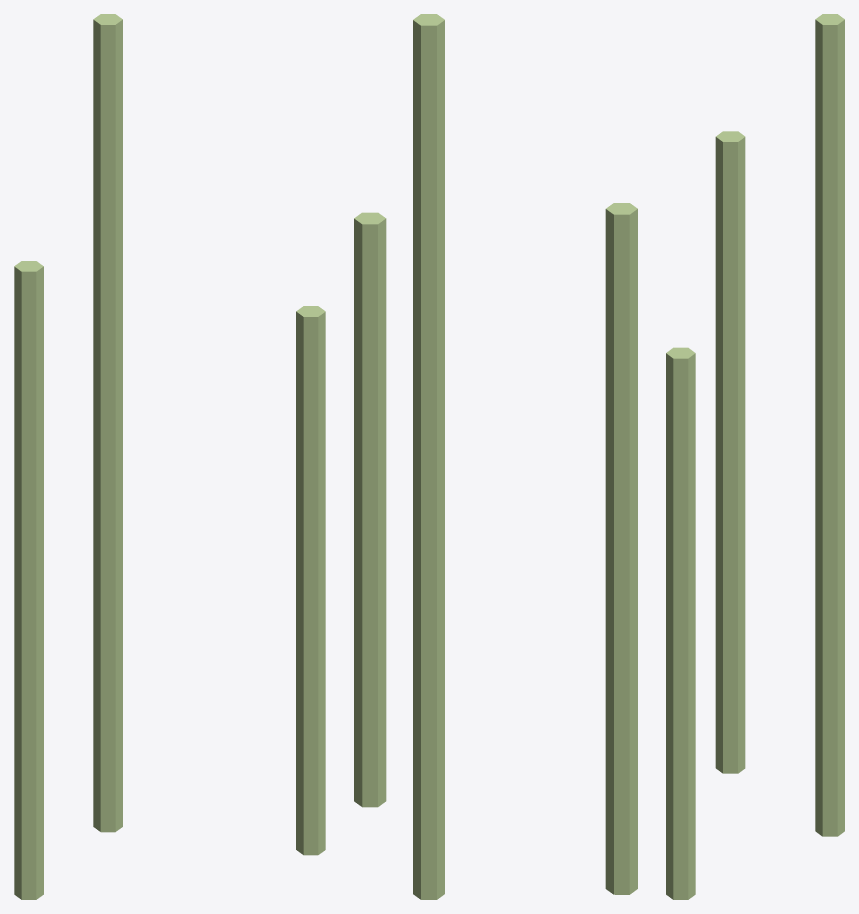
Rendered from harbor_reeds.glb.
3 renders of one model, left to right at view 1: azimuth 30°, elevation 25°; view 2: azimuth 150°, elevation 25°; view 3: azimuth 270°, elevation 25°, orthographic. The views are drawn at different scales.
Parts seen in each view (by area): view 1: r2, r1, r3; view 2: r2, r1, r3; view 3: r2, r1, r3.
Part boxes in pixels (x1,y1,x2,y2): r2: (93, 14, 122, 832); r1: (14, 261, 43, 899); r3: (296, 306, 325, 855); r2: (413, 14, 444, 899); r1: (605, 203, 637, 894); r3: (354, 212, 386, 807); r2: (815, 14, 844, 836); r1: (715, 131, 745, 773); r3: (666, 347, 695, 899).
Bounding box in the file's own units: 0.6518 × 1.8 × 0.3596.
